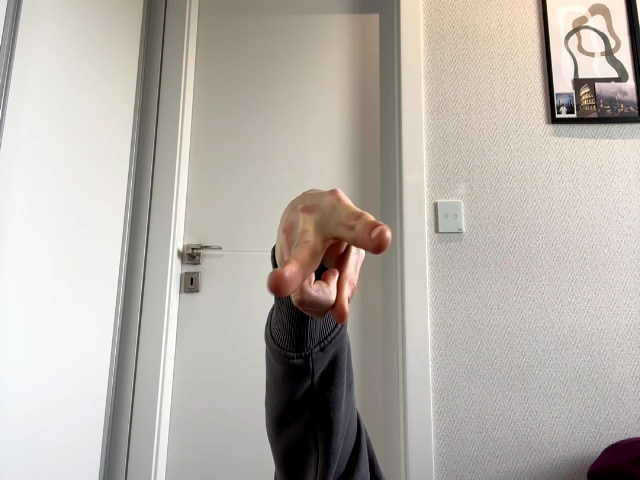U: (268, 188, 392, 321)
